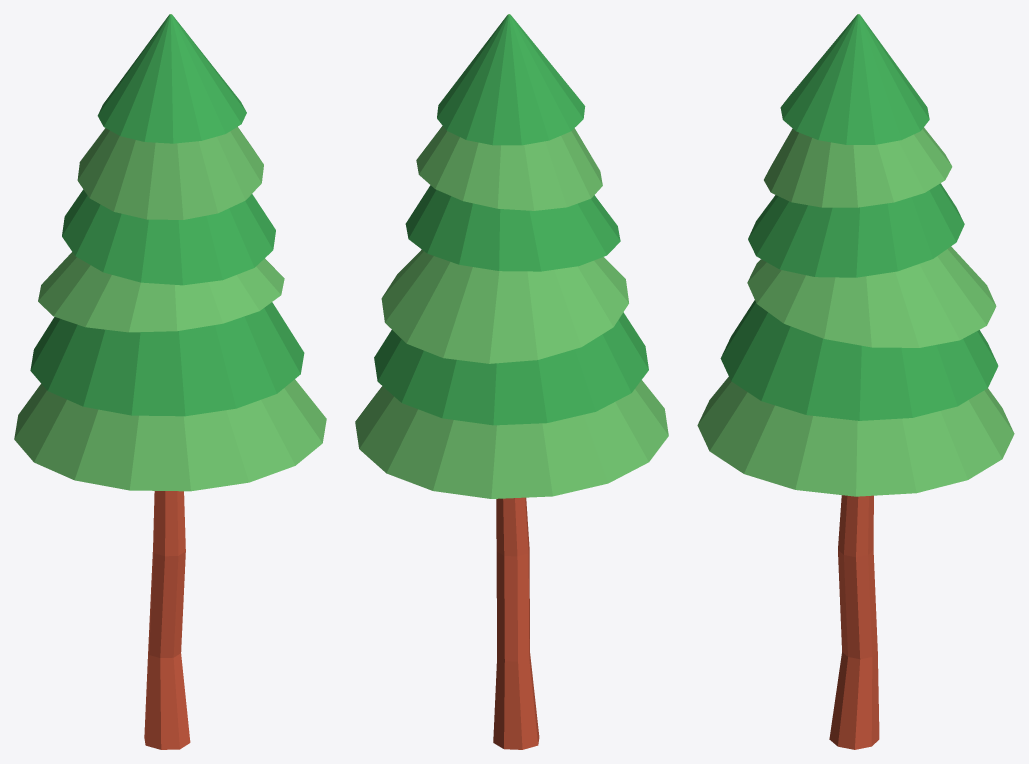
Rendered from pinetree2b.fbx.
3 views of the same model, side by side, from view 1: azimuth 30°, elevation 25°; view 2: azimuth 150°, elevation 25°; view 3: azimuth 270°, elevation 25° (orthographic).
Visible parts, largest first — view 1: Cube, Cube.001; view 2: Cube, Cube.001; view 3: Cube, Cube.001.
Boxes of the visible parts, x1,y1,x2,y2 form: Cube: (14, 14, 326, 491); Cube.001: (144, 491, 190, 749); Cube: (355, 14, 668, 498); Cube.001: (493, 497, 539, 749); Cube: (697, 14, 1014, 496); Cube.001: (829, 495, 879, 749).
Bounding box in the file's own units: 716 × 1812 × 716.
